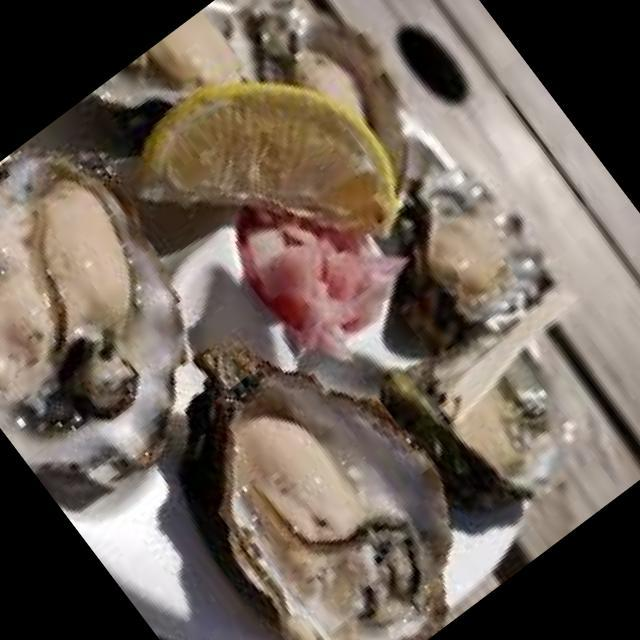Oyster-Open: (182, 342, 451, 640), (0, 158, 185, 511), (383, 334, 592, 520), (256, 0, 443, 177), (398, 169, 552, 353), (68, 0, 281, 124)
